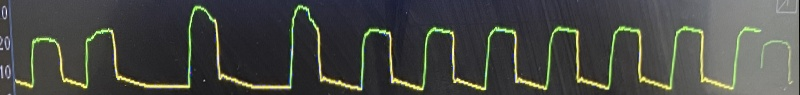normal_pressure: (22, 0, 780, 95)
